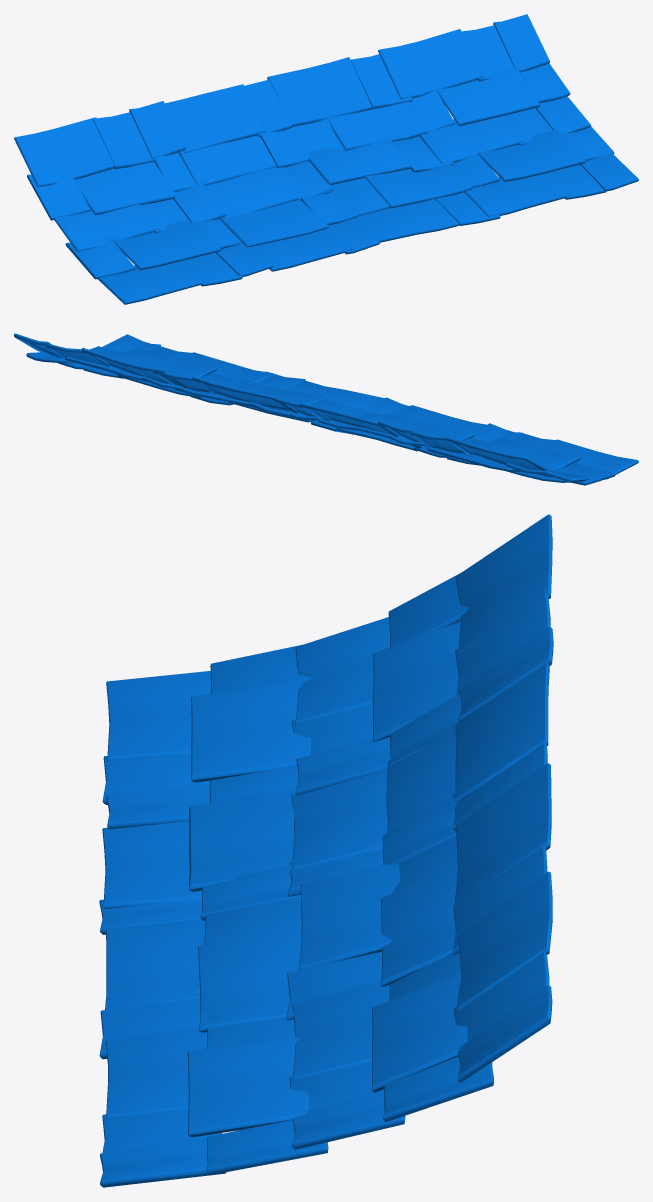
Rendered from mod_tejadoPorcho.fbx.
The picture shows the model from 3 angles, top to bottom: view 1: azimuth 30°, elevation 25°; view 2: azimuth 150°, elevation 25°; view 3: azimuth 270°, elevation 25°; orthographic projection. The views are drawn at different scales.
Parts seen in each view (by area): view 1: tejado.001; view 2: tejado.001; view 3: tejado.001.
Boxes of the visible parts, bbox=[...] form: tejado.001: bbox=[14, 14, 638, 304]; tejado.001: bbox=[14, 333, 638, 485]; tejado.001: bbox=[99, 514, 553, 1187].
Size of the model in its own units: 256 by 43.32 by 97.27.
